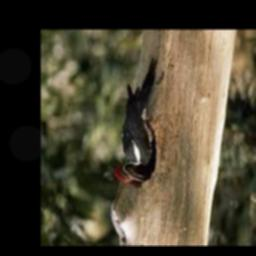Woodpecker: (114, 58, 158, 183)
